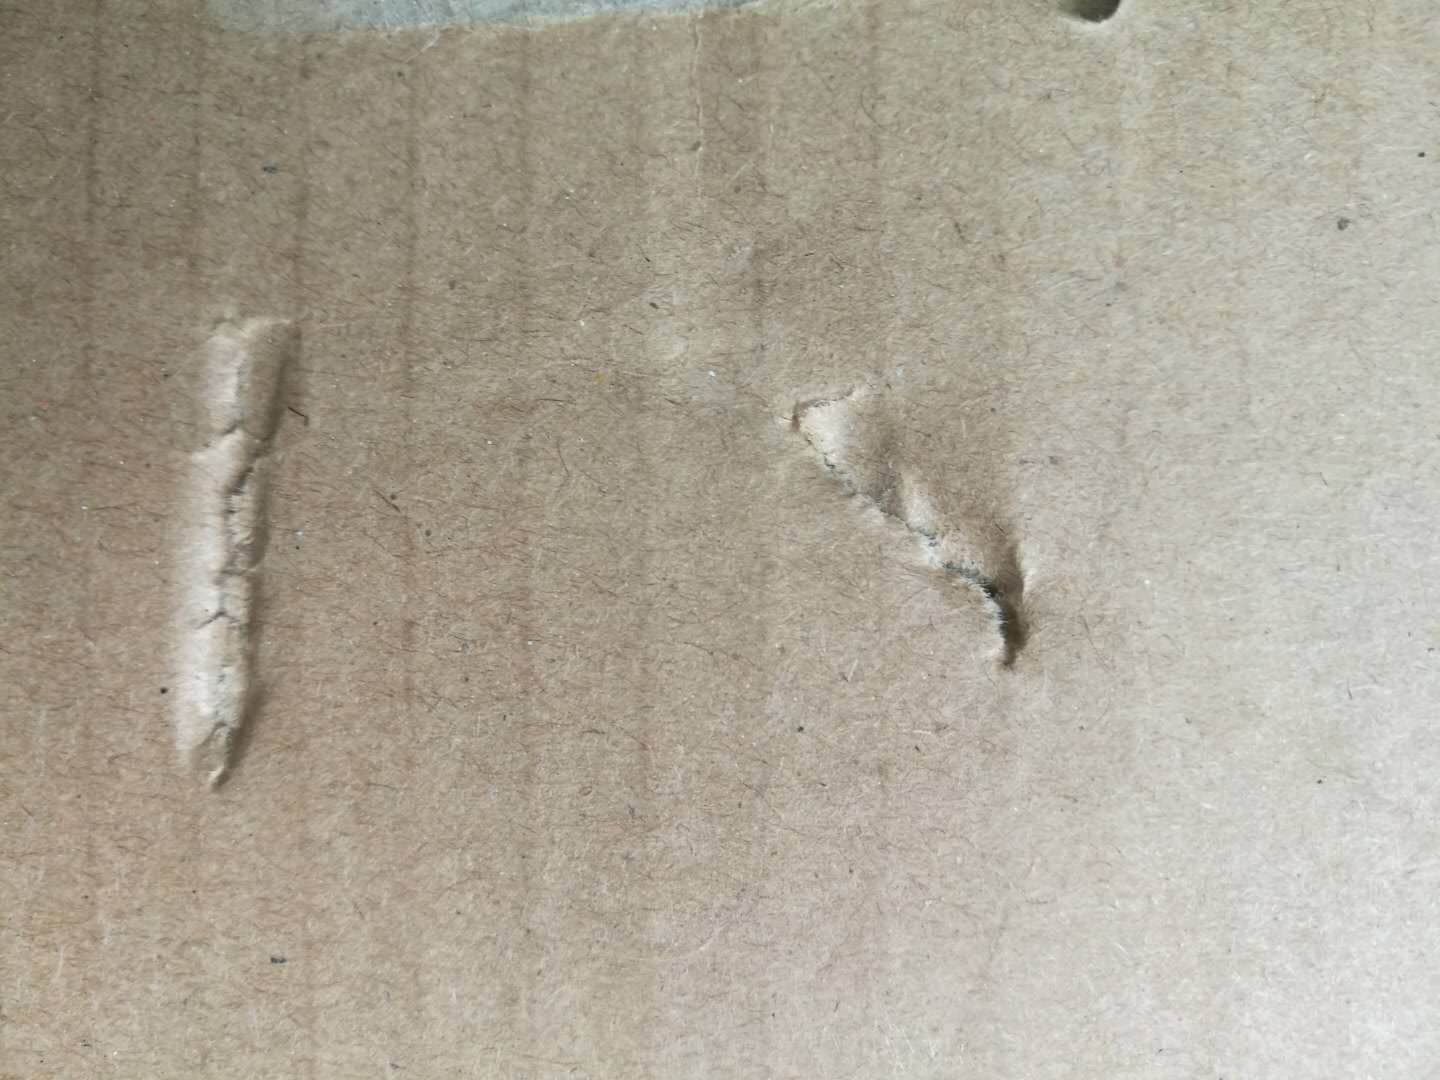defect: (717, 336, 1093, 718), (145, 265, 340, 839), (183, 1, 852, 67), (1024, 2, 1149, 49)
